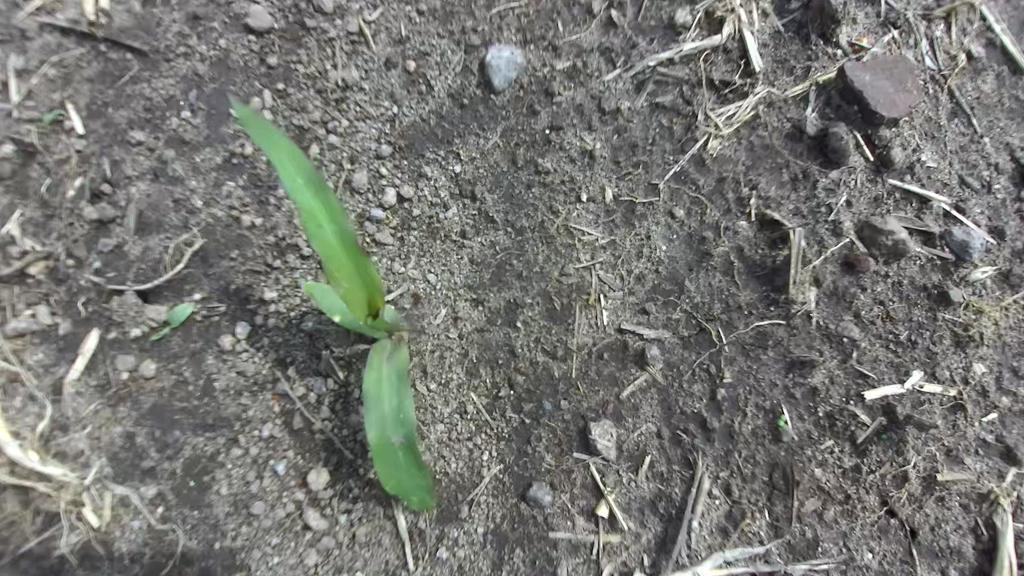BroWeed: (141, 295, 202, 345), (26, 296, 78, 340), (232, 318, 256, 355), (40, 102, 68, 127), (215, 329, 239, 353), (774, 412, 791, 429)
Maize: (163, 70, 504, 524)
